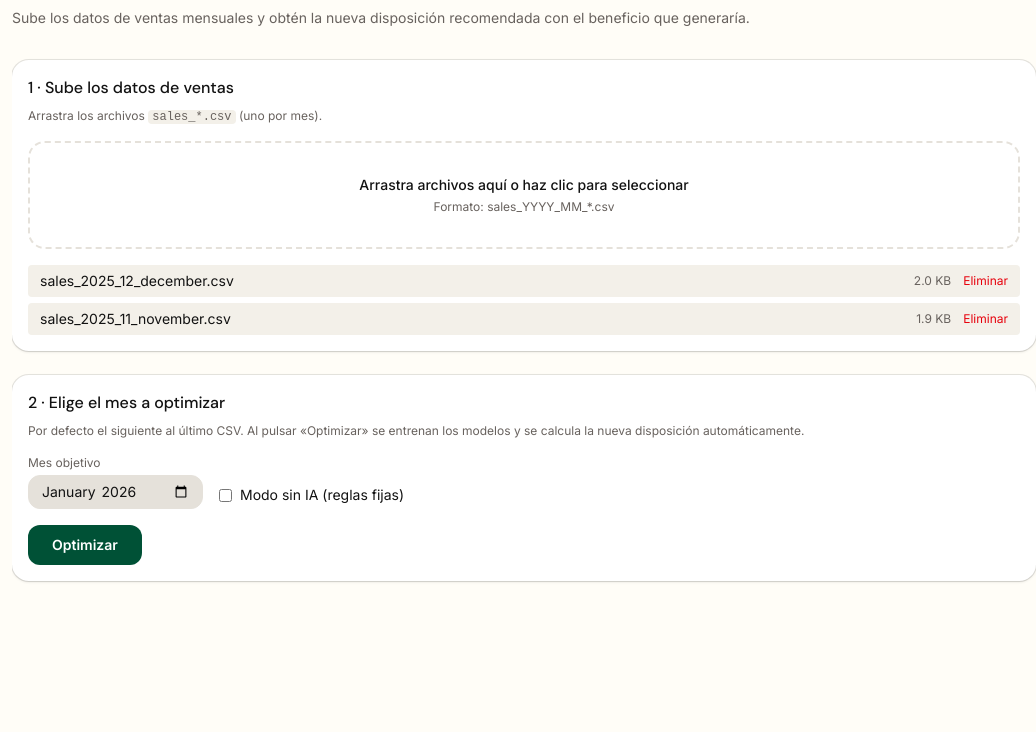
Test: HomePage › shows racks table after results load
expect the text "sales_2025_12_december.csv" is shown: met, box x1=40 y1=271 x2=234 y2=291
What coordinates should you click on to do the following:
click the button "Optimizar"
I would click on:
 (85, 545)
Its box is x1=28 y1=525 x2=142 y2=565.
(page scrolled)
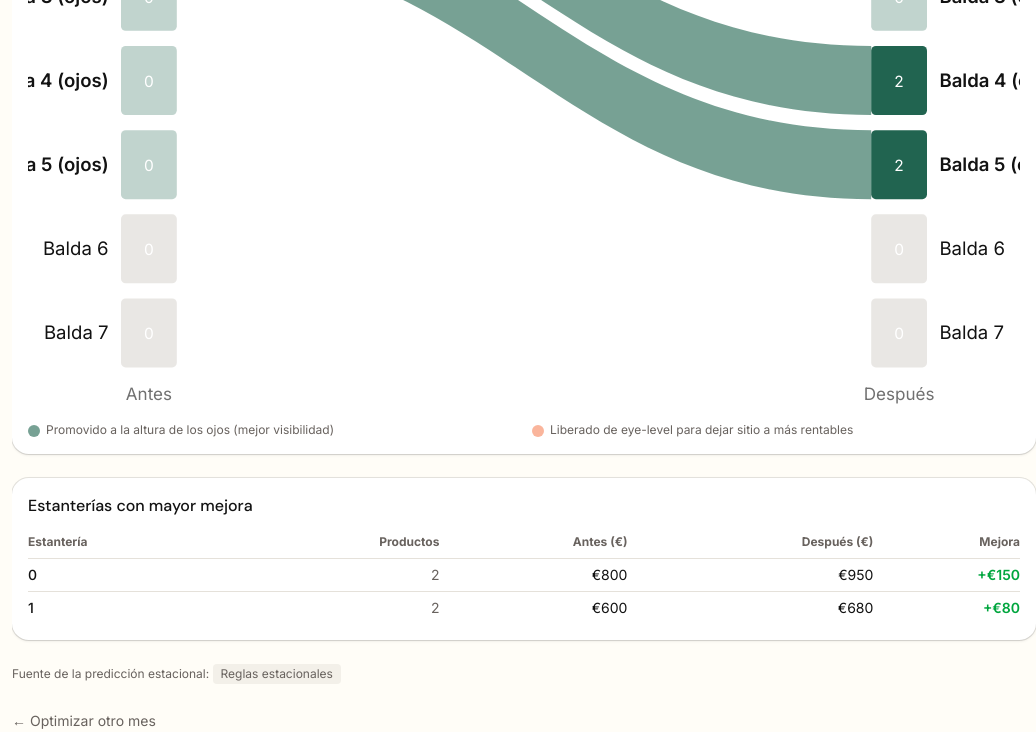
expect the text "Estanterías con mayor mejora" is shown: met, box x1=28 y1=495 x2=253 y2=516
